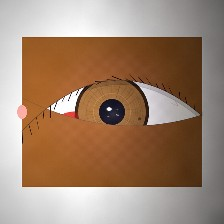hemorrhage_spot: (45, 99, 109, 149)
